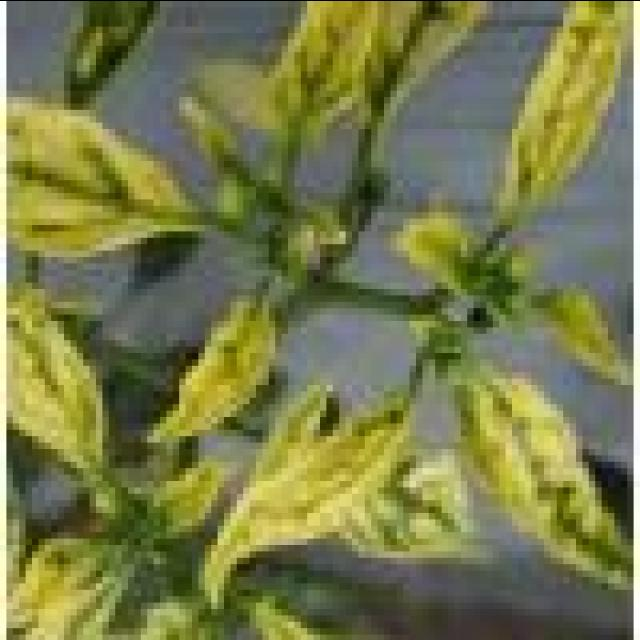virus_kuning: (204, 367, 414, 572), (0, 98, 211, 264), (160, 278, 299, 436)
